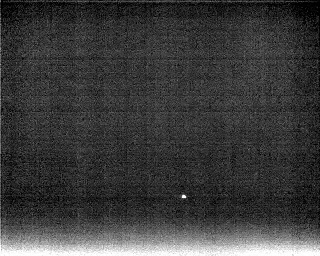BIRD: (179, 191, 189, 202)
